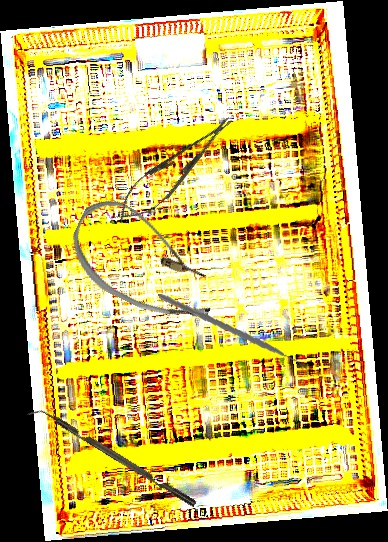Cannula: (57, 190, 235, 336)
Chopper: (27, 400, 197, 516), (158, 280, 304, 390)
Needle Holder: (106, 105, 244, 234)
